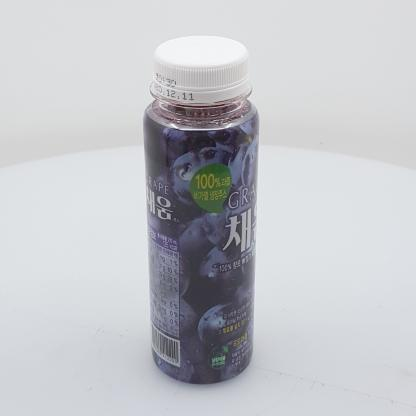---------210ML: (143, 35, 259, 385)
